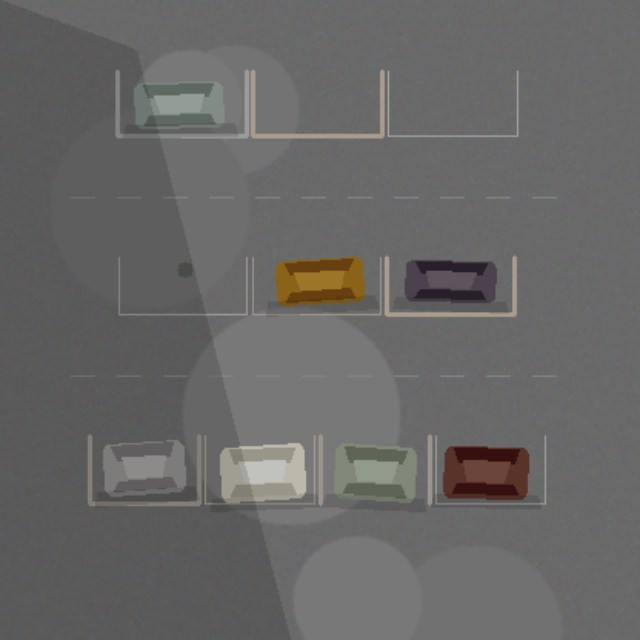space-empty: (252, 71, 382, 135), (388, 71, 517, 135), (118, 257, 246, 314)
space-occupied: (117, 71, 246, 135), (435, 435, 545, 503), (89, 435, 198, 503), (205, 435, 314, 503), (320, 435, 429, 503), (252, 257, 380, 314), (386, 257, 514, 314)
